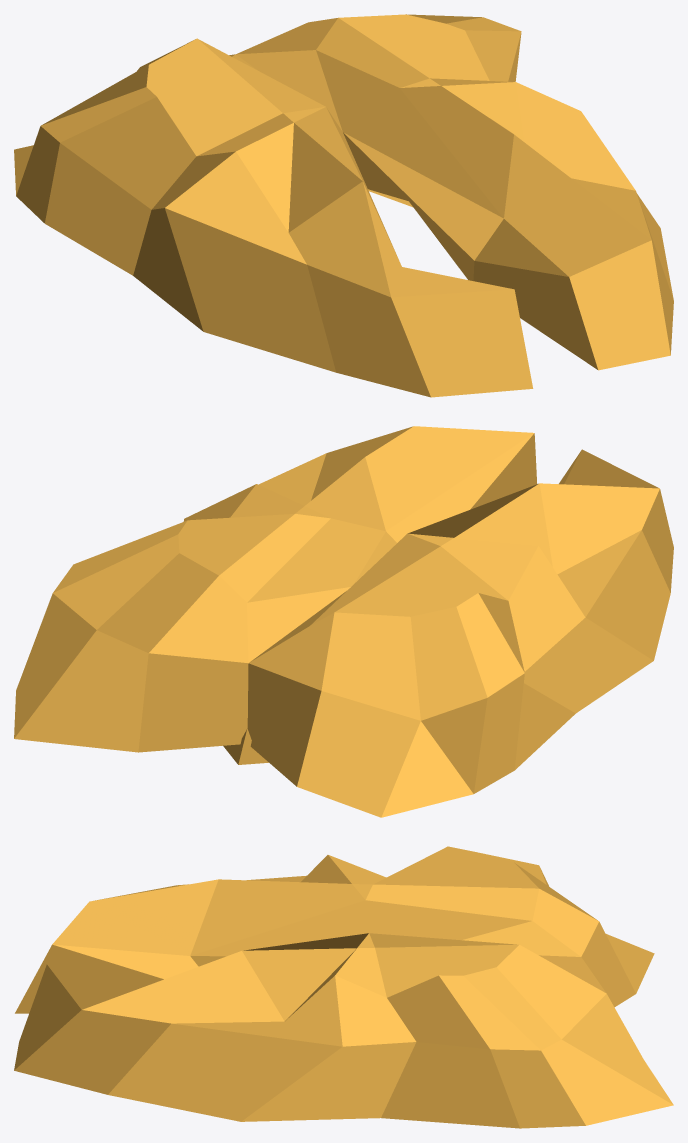
The model's file is walnut03.gltf.
The picture shows the model from 3 angles, top to bottom: view 1: azimuth 30°, elevation 25°; view 2: azimuth 150°, elevation 25°; view 3: azimuth 270°, elevation 25°; orthographic projection. The views are drawn at different scales.
Parts seen in each view (by area): view 1: Cylinder.001; view 2: Cylinder.001; view 3: Cylinder.001.
Boxes of the visible parts, <box> form: Cylinder.001: <box>14,14,673,397</box>; Cylinder.001: <box>14,426,673,817</box>; Cylinder.001: <box>14,846,673,1128</box>.
Size of the model in its own units: 0.021 by 0.00642 by 0.0297.
Materials: 1 (1 with a texture image).
